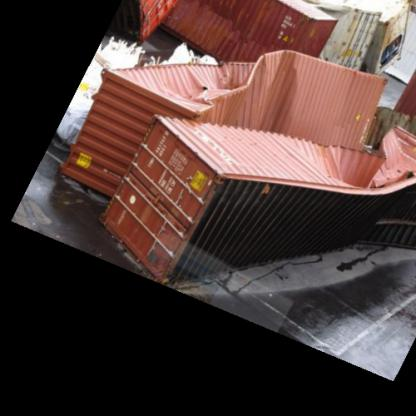Damage: (154, 43, 383, 124), (303, 124, 415, 218)
